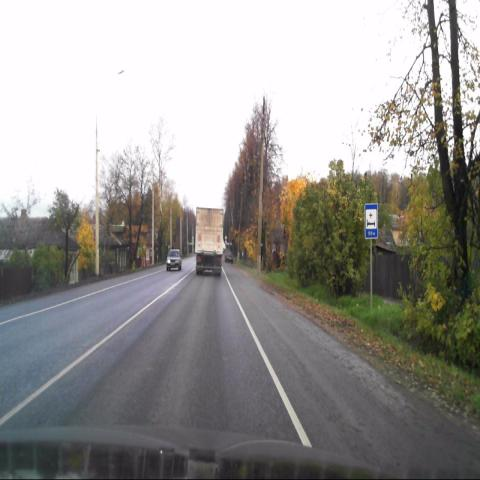7_2: (365, 204, 378, 240)
